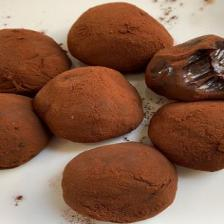brown: (0, 29, 70, 96)
